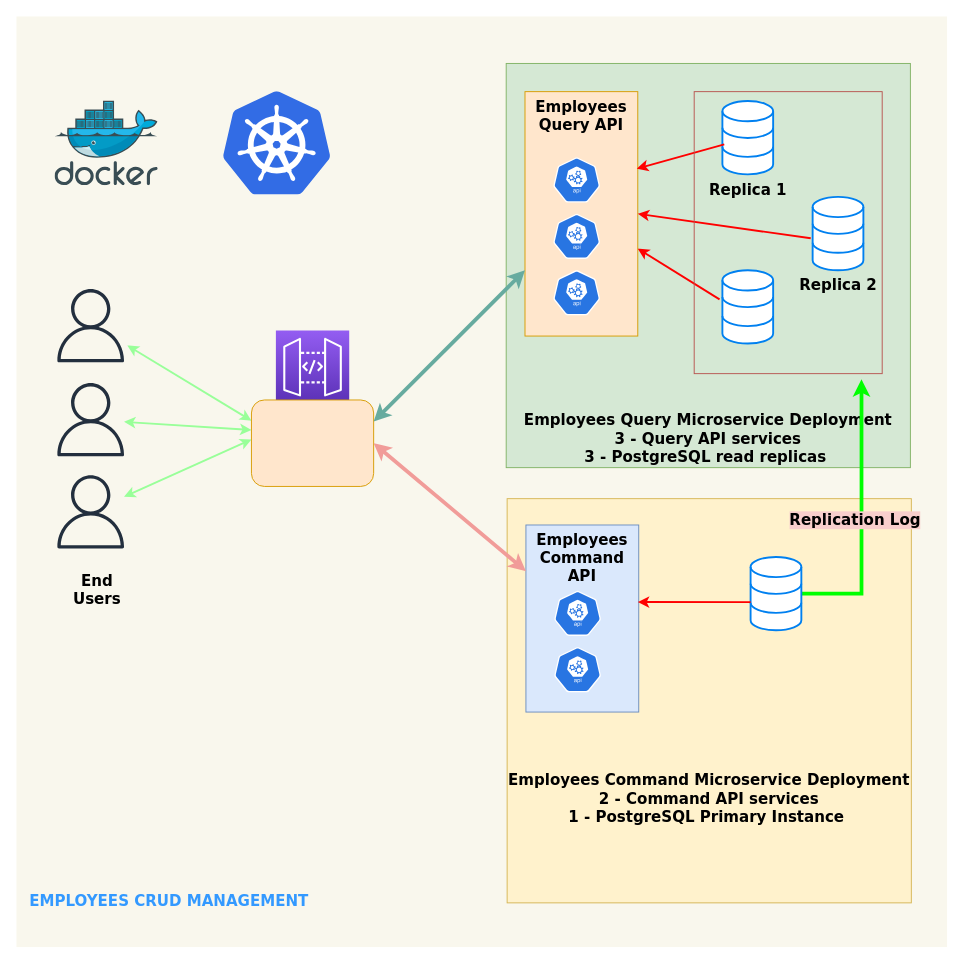
The diagram is 963 pixels wide and 963 high, and some of its shapes have lost their labels. The centre of each missing label's shape, as x and y in pixels:
"API Gateway and Load Balancer" goes at (x=312, y=442).
"Primary DB Instance" goes at (x=775, y=593).
"Replica 3" goes at (x=747, y=306).
